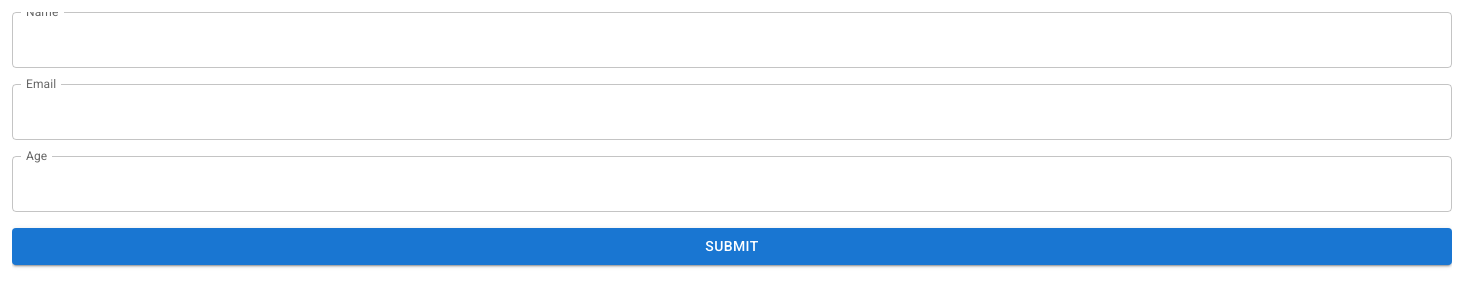
Test case: submit button is disabled if invalid age
This screenshot has width=1464, height=304.
Expected: the button "Submit" is enabled, [12,228,1452,264]
# Test with an invalid value
Type "not a number" into the field labelled "Age".
click(732, 184); type("not a number")  # box [12,156,1452,212]
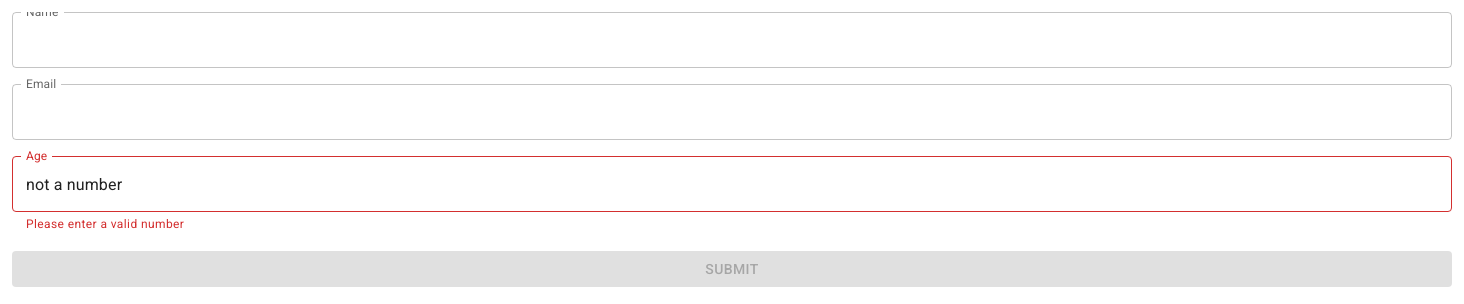
Expected: the button "Submit" is disabled, [12,251,1452,287]
# Test with a valid value
Replace the text in the field labelled "Age" with "20" at (732, 184), box [12,156,1452,212]
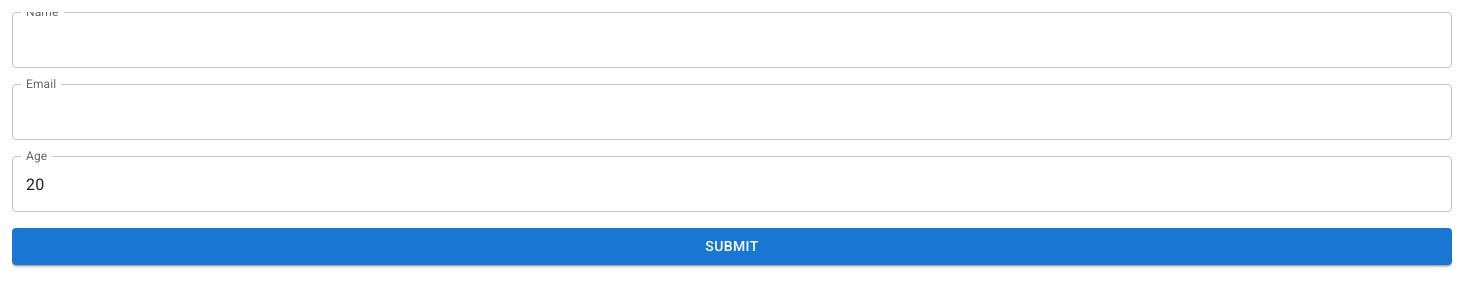
Expected: the button "Submit" is enabled, [12,228,1452,264]
